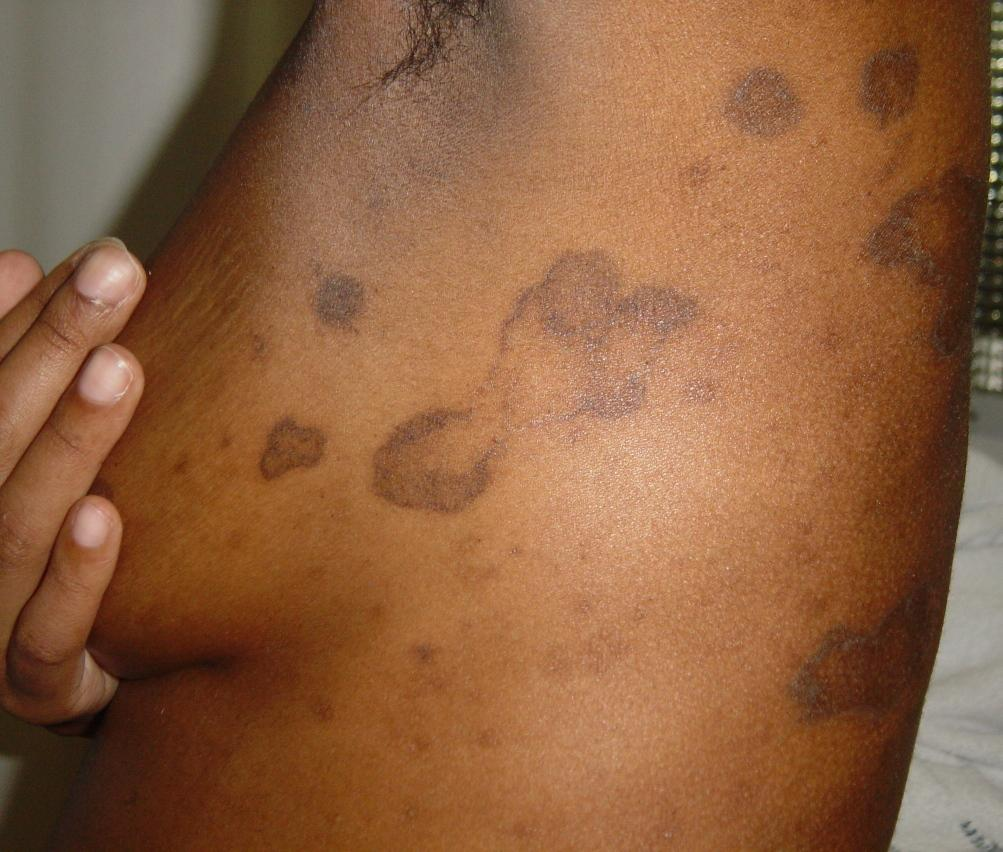annular lichen planus: (231, 382, 549, 561), (822, 54, 981, 319)
